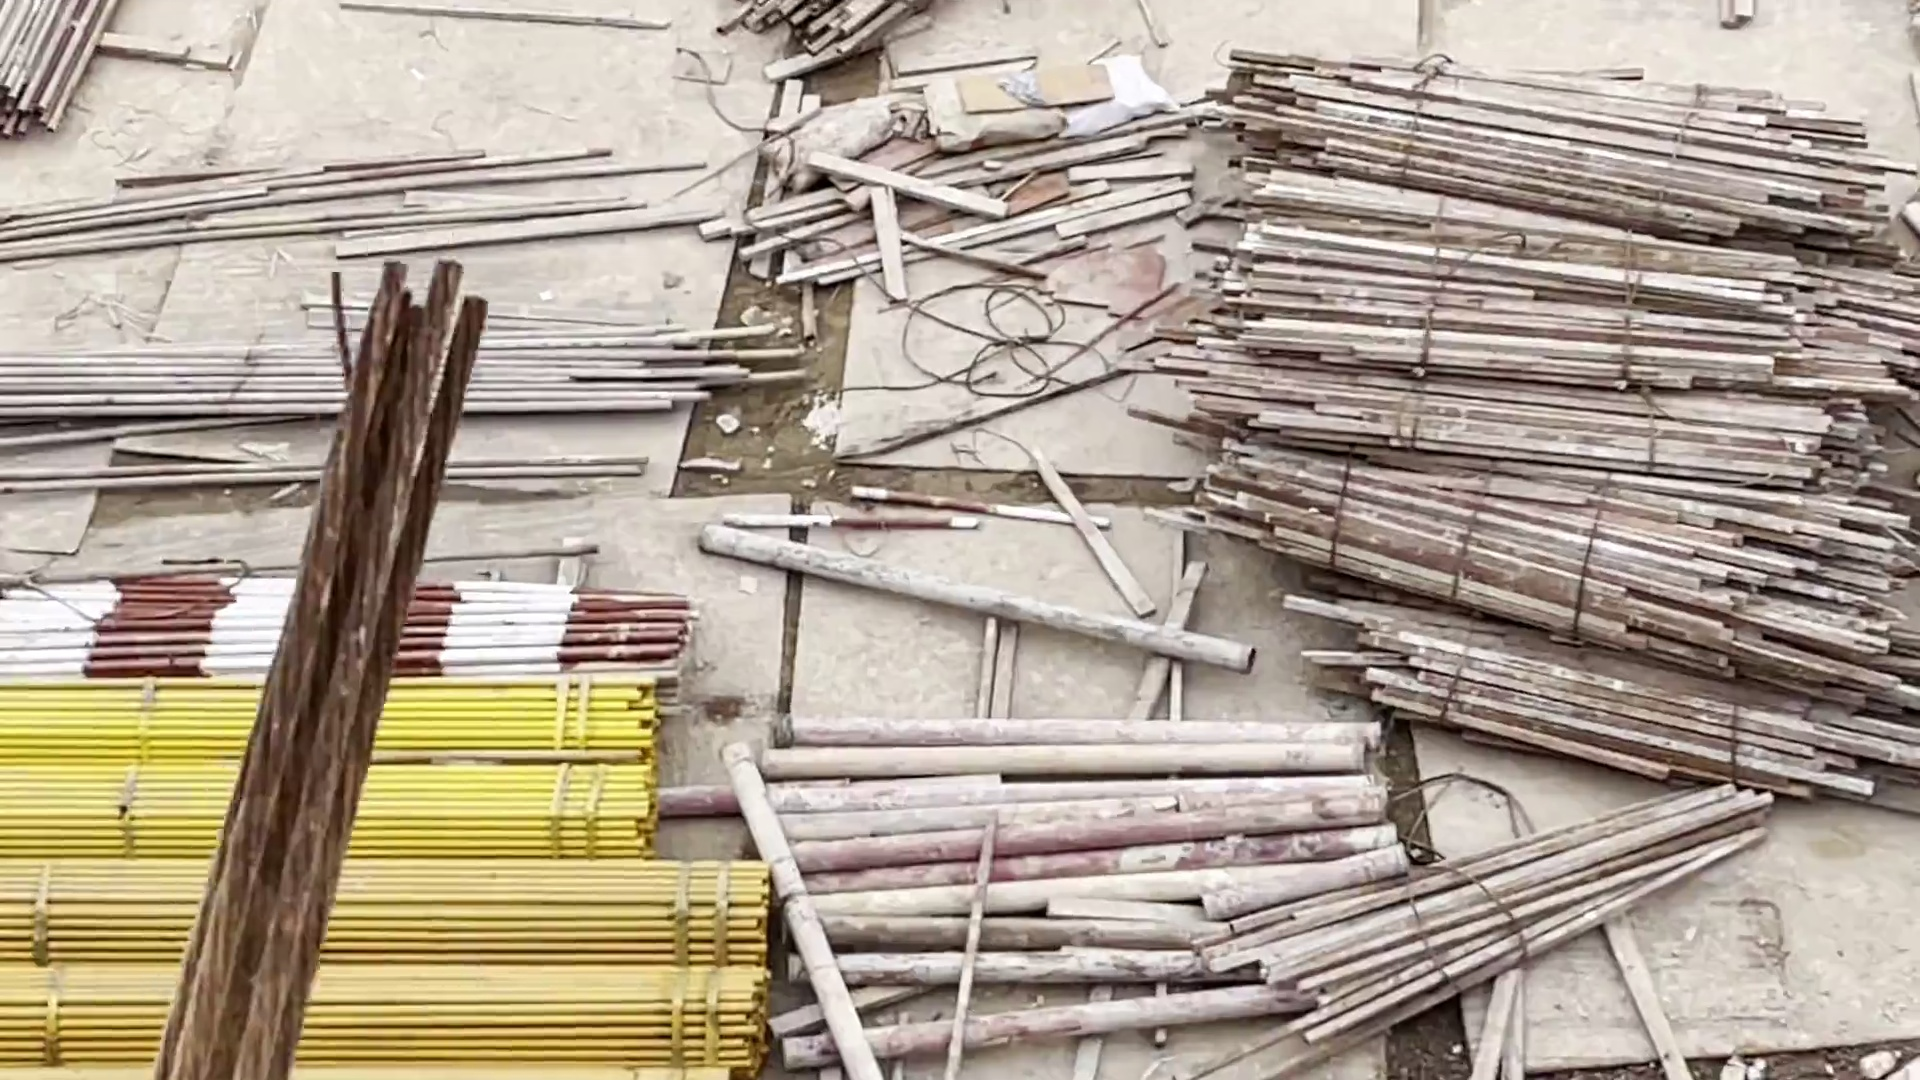wood: (1232, 45, 1917, 787)
